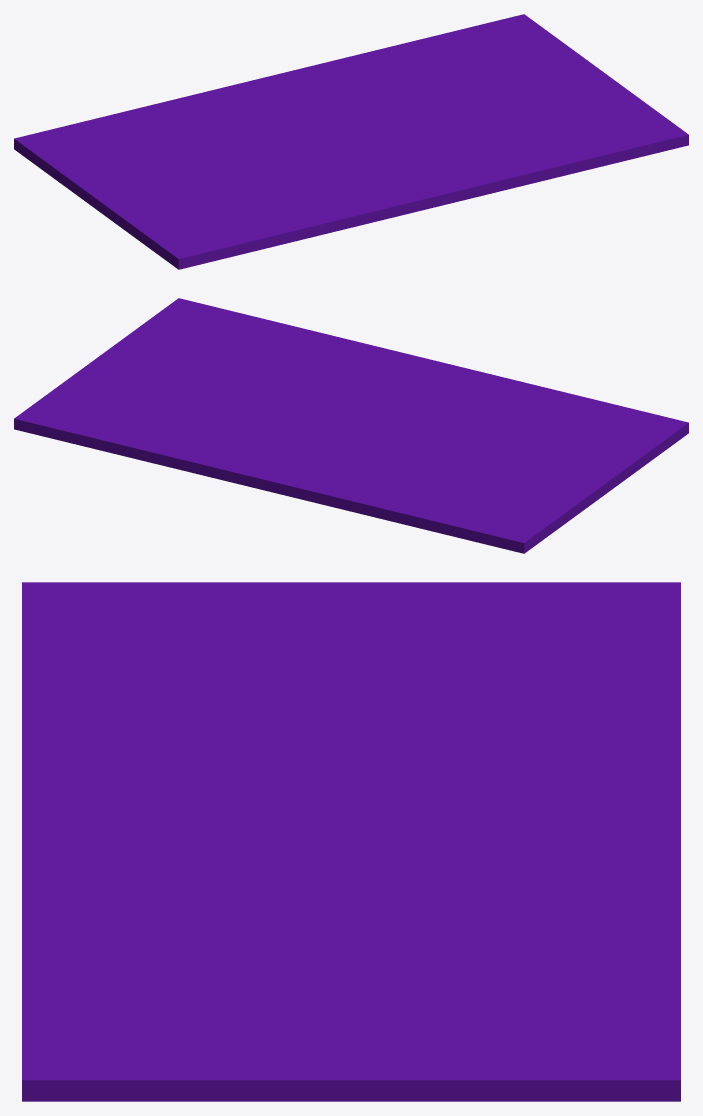
File: Exhibition_19.009_chunks.fbx
3 renders of one model, top to bottom at view 1: azimuth 30°, elevation 25°; view 2: azimuth 150°, elevation 25°; view 3: azimuth 270°, elevation 25°, orthographic. The views are drawn at different scales.
Visible parts, largest first — view 1: Exhibition_19.009_3, Exhibition_19.009_0, Exhibition_19.009_1; view 2: Exhibition_19.009_3, Exhibition_19.009_1, Exhibition_19.009_0; view 3: Exhibition_19.009_3, Exhibition_19.009_0, Exhibition_19.009_1.
Part boxes in pixels (x1,y1,x2,y2): Exhibition_19.009_3: (349,14,688,189); Exhibition_19.009_0: (76,137,504,269); Exhibition_19.009_1: (14,49,380,194); Exhibition_19.009_3: (14,298,366,462); Exhibition_19.009_1: (151,421,586,553); Exhibition_19.009_0: (353,344,688,507); Exhibition_19.009_3: (22,829,680,1101); Exhibition_19.009_0: (22,582,432,896); Exhibition_19.009_1: (353,582,680,940).
Bounding box in the file's own units: 642 × 12.85 × 359.
